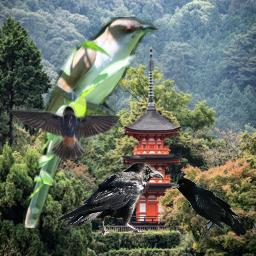Crow: (56, 161, 164, 239), (169, 178, 246, 239)
Cuckoo: (23, 17, 161, 228)
Swallow: (6, 104, 122, 160)
